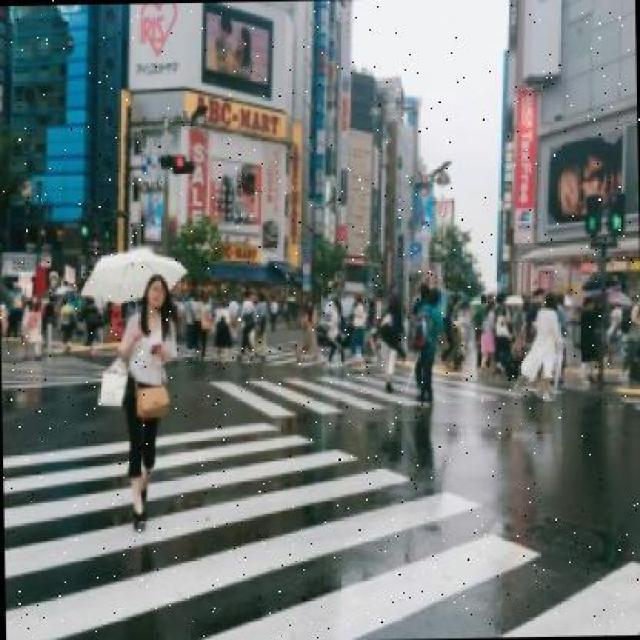Person: (117, 276, 183, 530), (414, 283, 448, 400), (532, 288, 566, 402), (379, 292, 407, 392), (326, 297, 349, 369)
